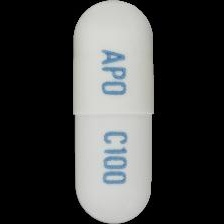60505-3848: (0, 0, 224, 224)
